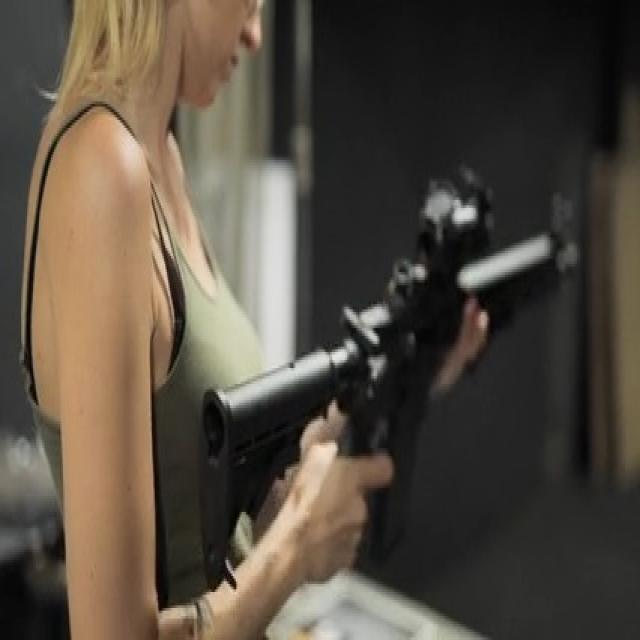Gun_Holder: (196, 197, 612, 617)
Person: (20, 0, 399, 640)
